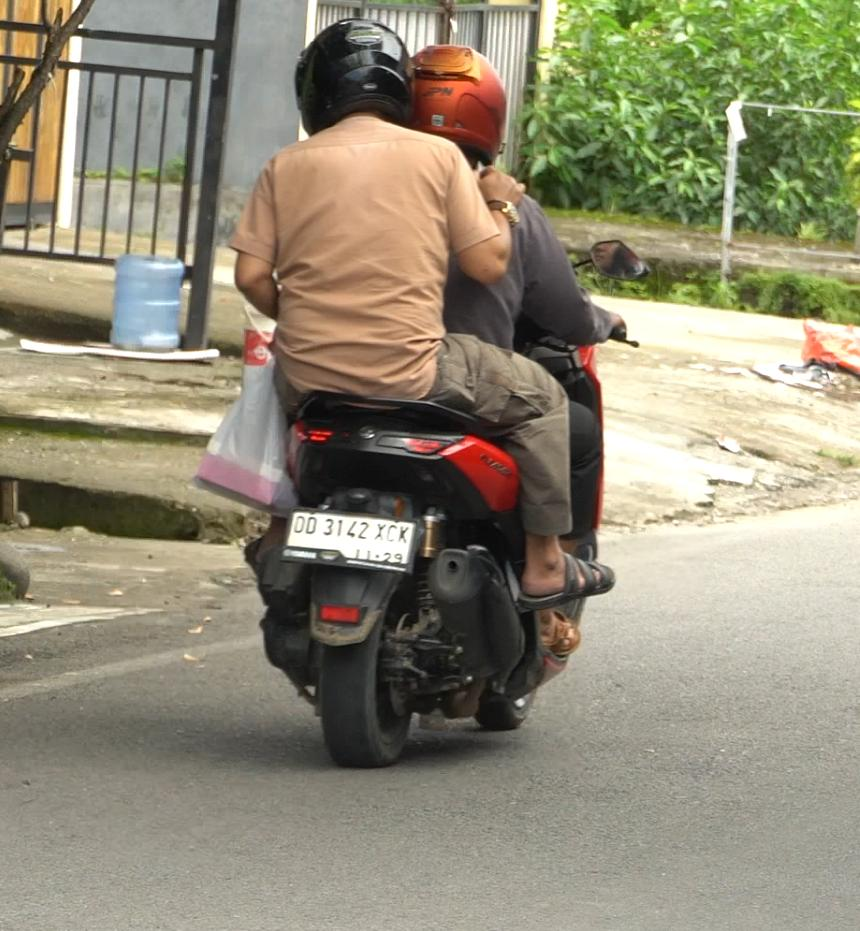number-plate: (286, 504, 423, 576)
